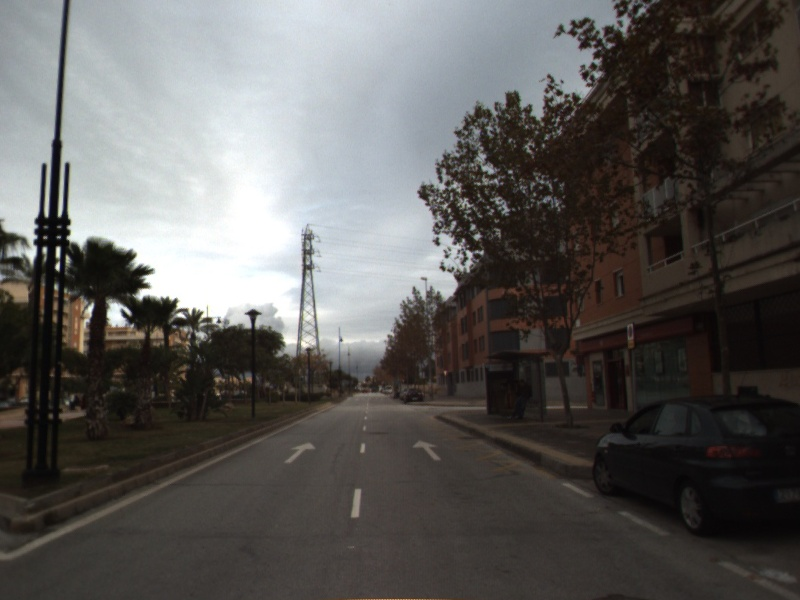STRAIGHT: (282, 440, 318, 465), (410, 438, 443, 462)
